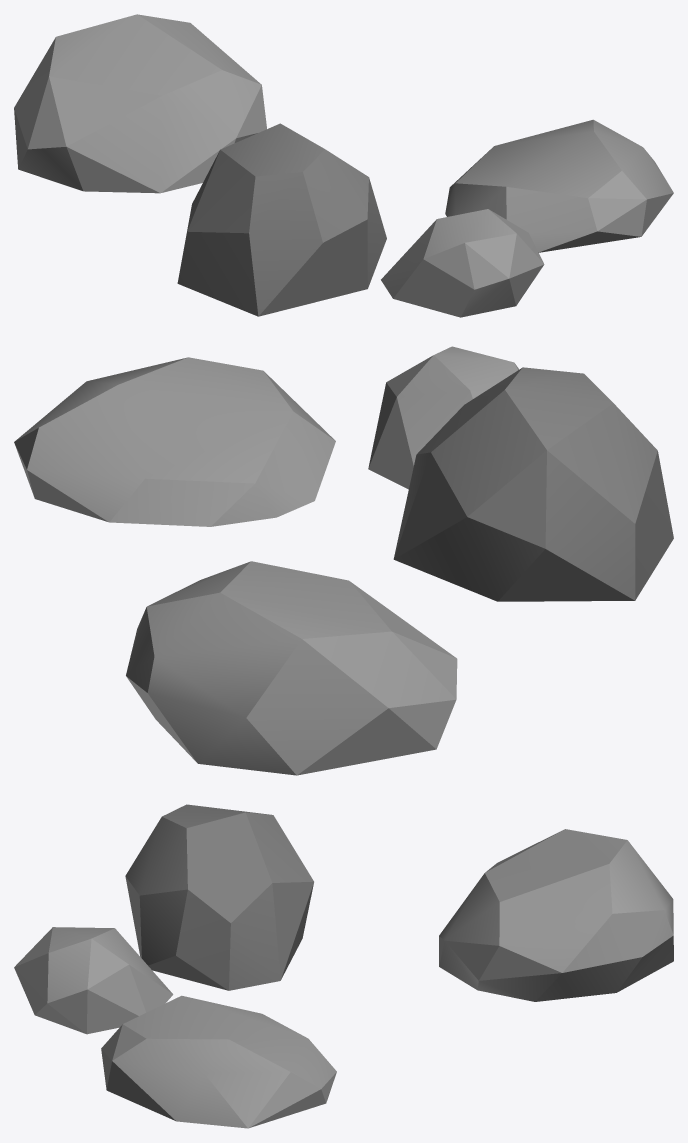
Rendered from EA03_Environment_Rock_CatHead_01b.glb.
3 renders of one model, top to bottom at view 1: azimuth 30°, elevation 25°; view 2: azimuth 150°, elevation 25°; view 3: azimuth 270°, elevation 25°, orthographic. The views are drawn at different scales.
Visible parts, largest first — view 1: EA03_Environment_Rock_CatHead_01b; view 2: EA03_Environment_Rock_CatHead_01b; view 3: EA03_Environment_Rock_CatHead_01b.
Boxes of the visible parts, x1=… form: EA03_Environment_Rock_CatHead_01b: x1=14, y1=14, x2=673, y2=317; EA03_Environment_Rock_CatHead_01b: x1=14, y1=346, x2=673, y2=775; EA03_Environment_Rock_CatHead_01b: x1=14, y1=804, x2=673, y2=1128.
Size of the model in its own units: 6.02 by 1.65 by 7.08.
Materials: 1 (1 with a texture image).
